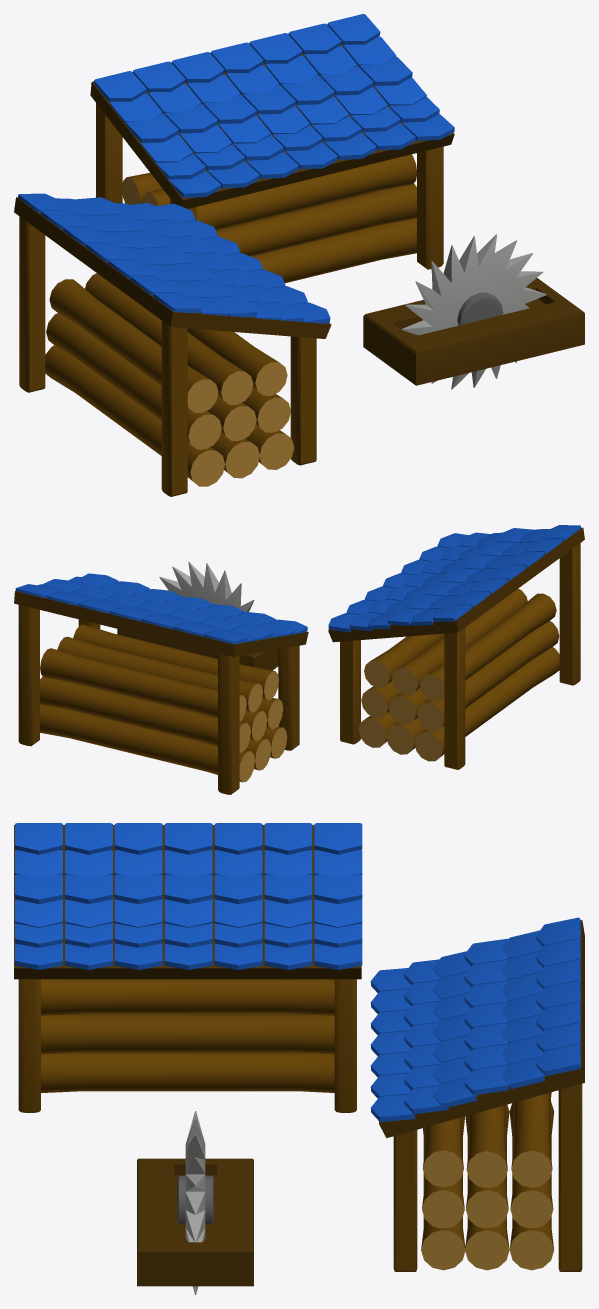
File: LumberMill_BlueTeam.fbx
3 views of the same model, one above another, from view 1: azimuth 30°, elevation 25°; view 2: azimuth 150°, elevation 25°; view 3: azimuth 270°, elevation 25° (orthographic). The views are drawn at different scales.
Visible parts, largest first — view 1: LumberMill_BlueTeam; view 2: LumberMill_BlueTeam; view 3: LumberMill_BlueTeam.
Boxes of the visible parts, box(x1,y1,x2,y2) form: LumberMill_BlueTeam: box(14, 14, 584, 496); LumberMill_BlueTeam: box(14, 525, 584, 794); LumberMill_BlueTeam: box(14, 823, 584, 1294).
Size of the model in its own units: 2589 by 1221 by 2456.
